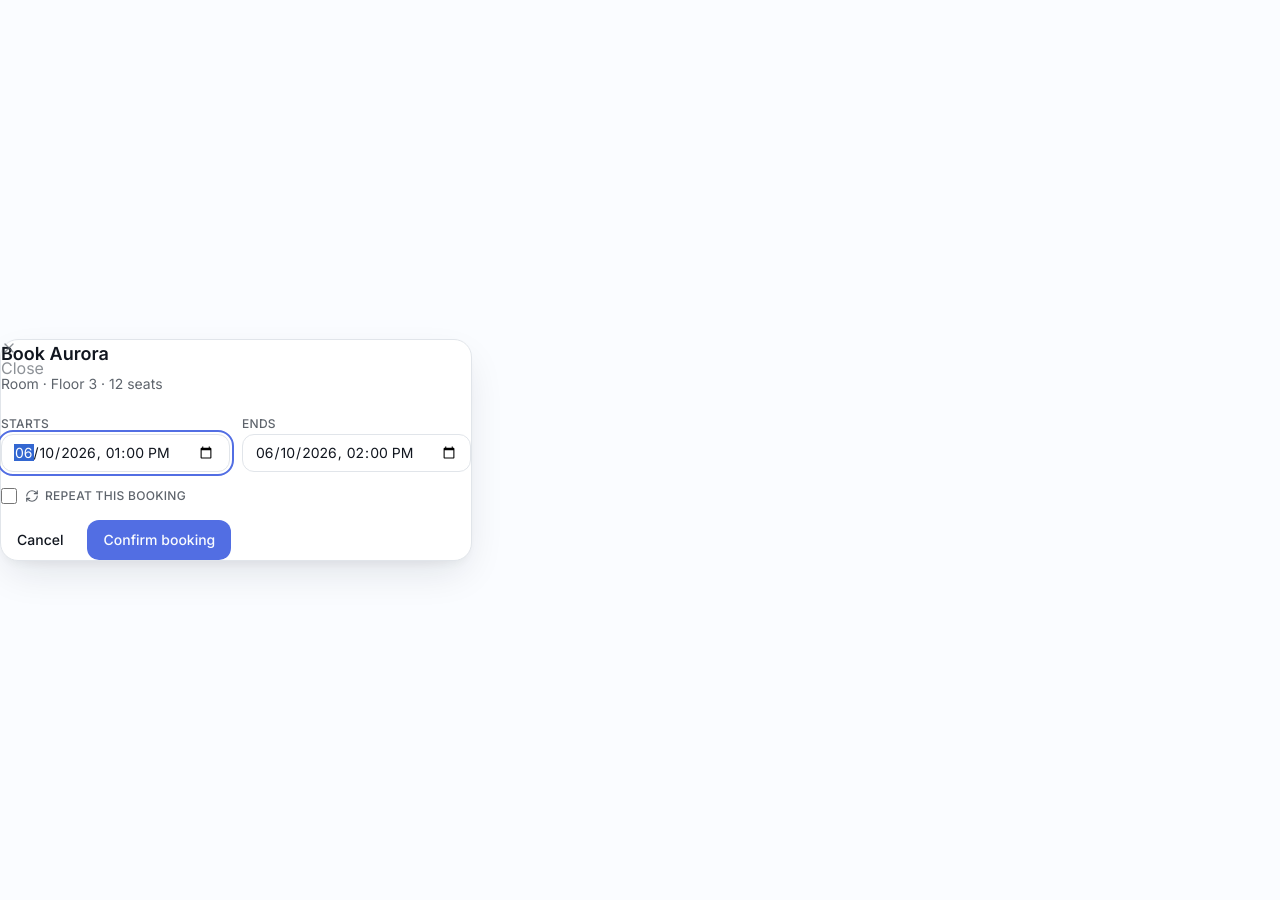
Test: BookDialog › shows error when API returns 409
The image size is (1280, 900).
Click the button "Confirm booking" at (159, 540), box [88, 520, 231, 560]
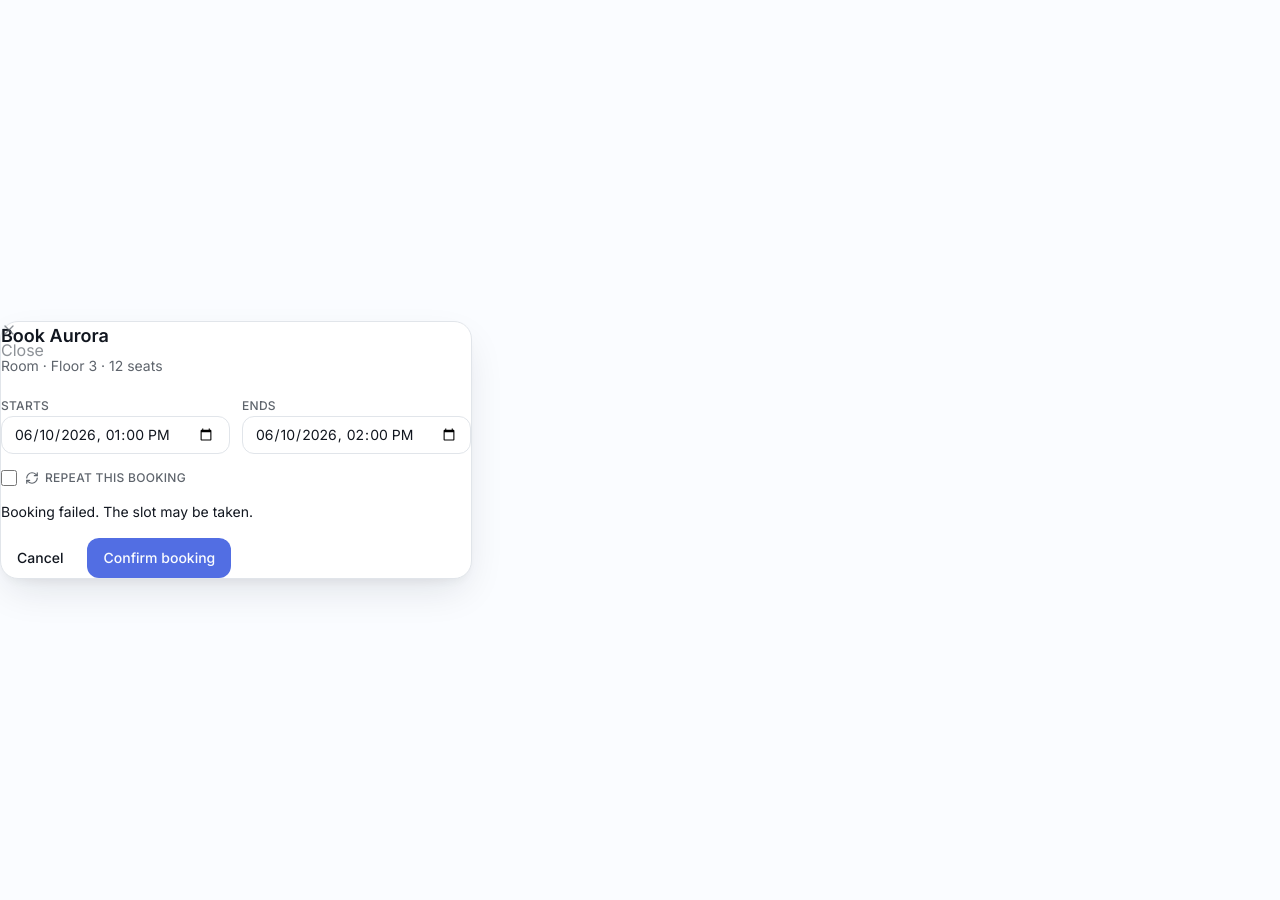
Expected: the message shows "slot may be taken", [1, 503, 253, 520]
